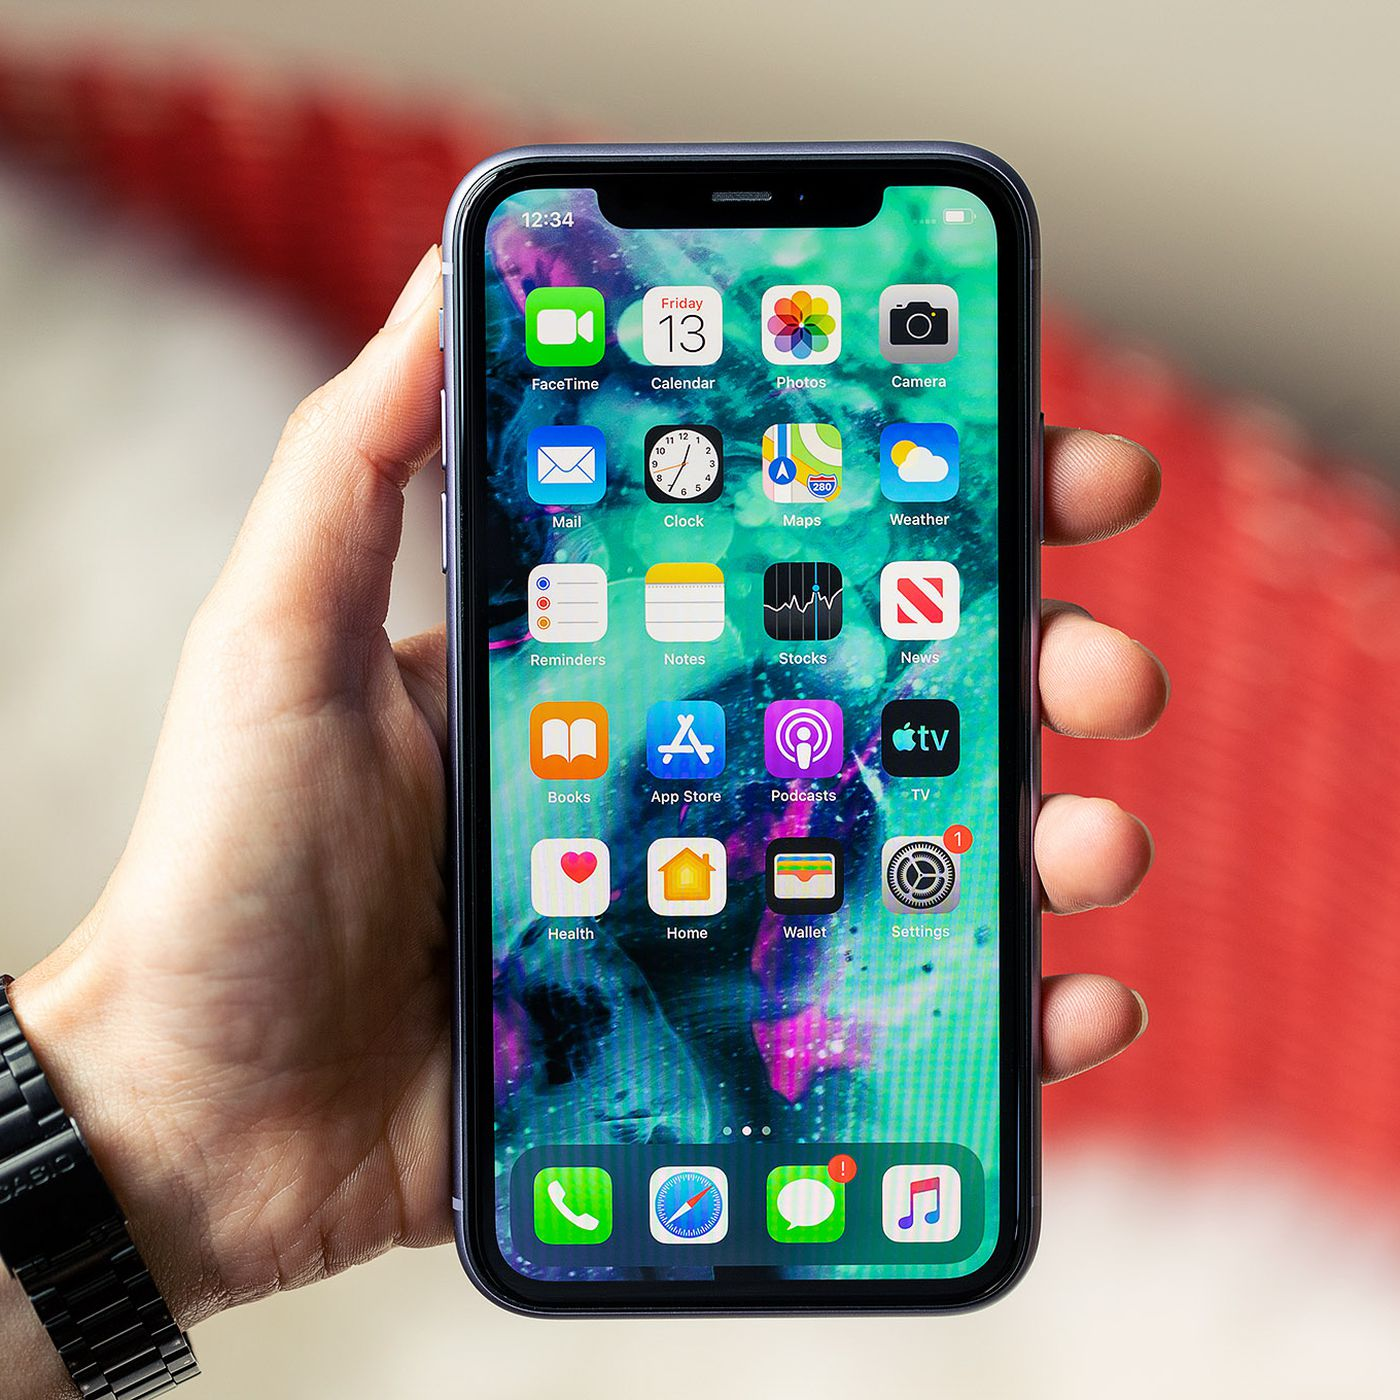Cell Phone: (440, 135, 1045, 1323)
